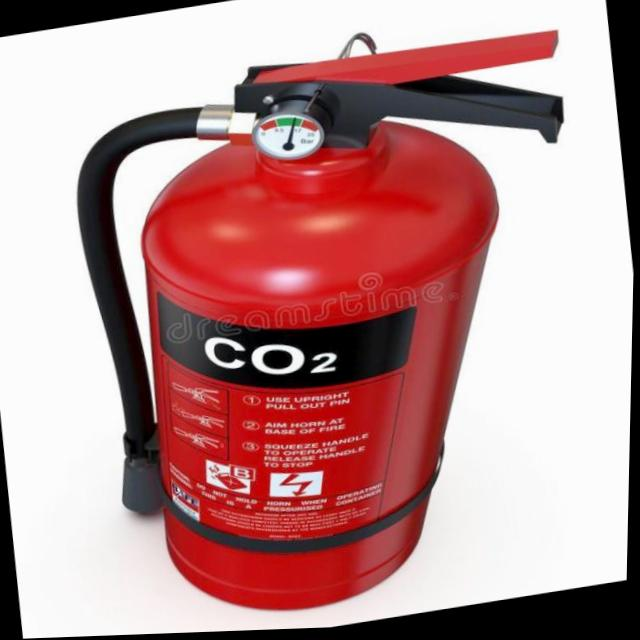FireExtinguisher: (48, 0, 632, 638)
